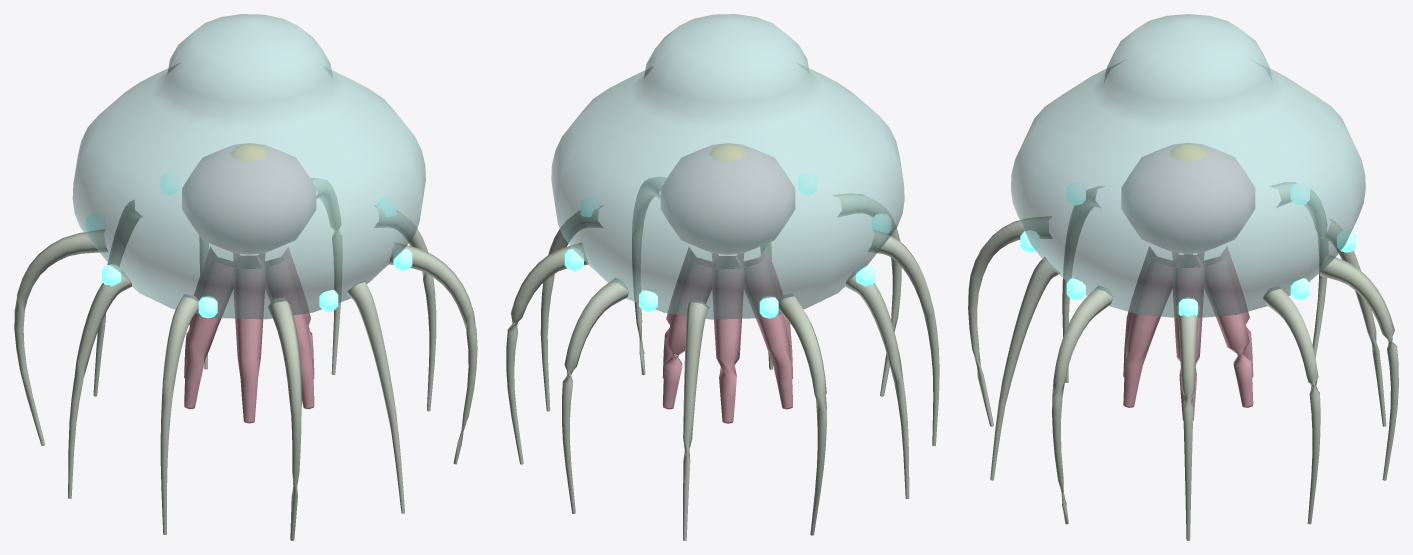
File: xeno-species-and-alien-creatures-jelly-drifter-68c0b197__21129.glb
3 views of the same model, side by side, from view 1: azimuth 30°, elevation 25°; view 2: azimuth 150°, elevation 25°; view 3: azimuth 270°, elevation 25° (orthographic).
Visible parts, largest first — view 1: jelly-drifter; view 2: jelly-drifter; view 3: jelly-drifter.
Part boxes in pixels (x1,y1,x2,y2): jelly-drifter: [14, 14, 477, 540]; jelly-drifter: [506, 14, 939, 540]; jelly-drifter: [968, 14, 1398, 540].
Bounding box in the file's own units: 0.8024 × 0.9009 × 0.8159.
